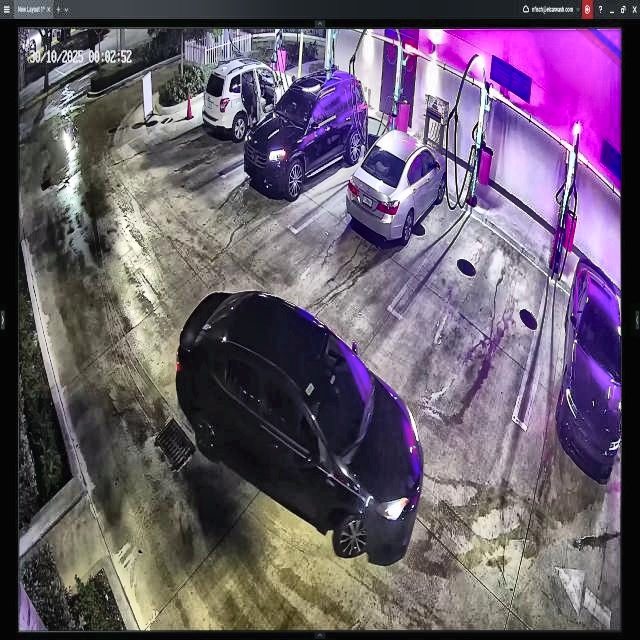Car: (173, 291, 426, 565), (243, 73, 368, 200), (348, 130, 448, 241), (204, 61, 294, 143)
